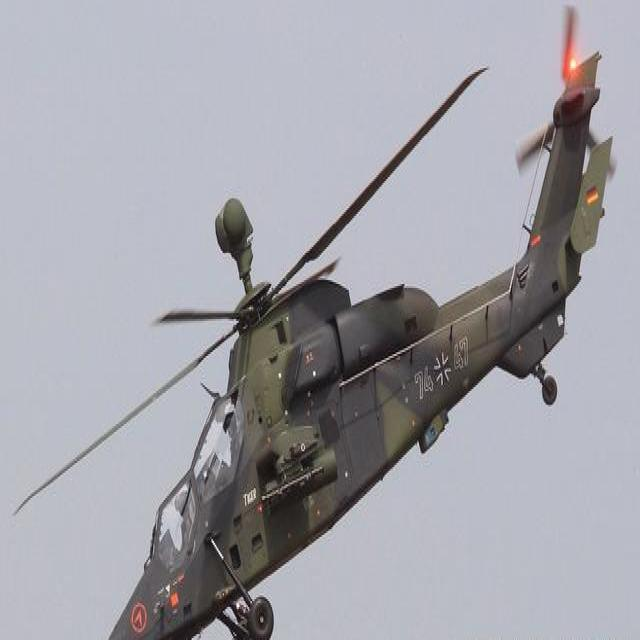MIL_HELO: (24, 21, 613, 640)
